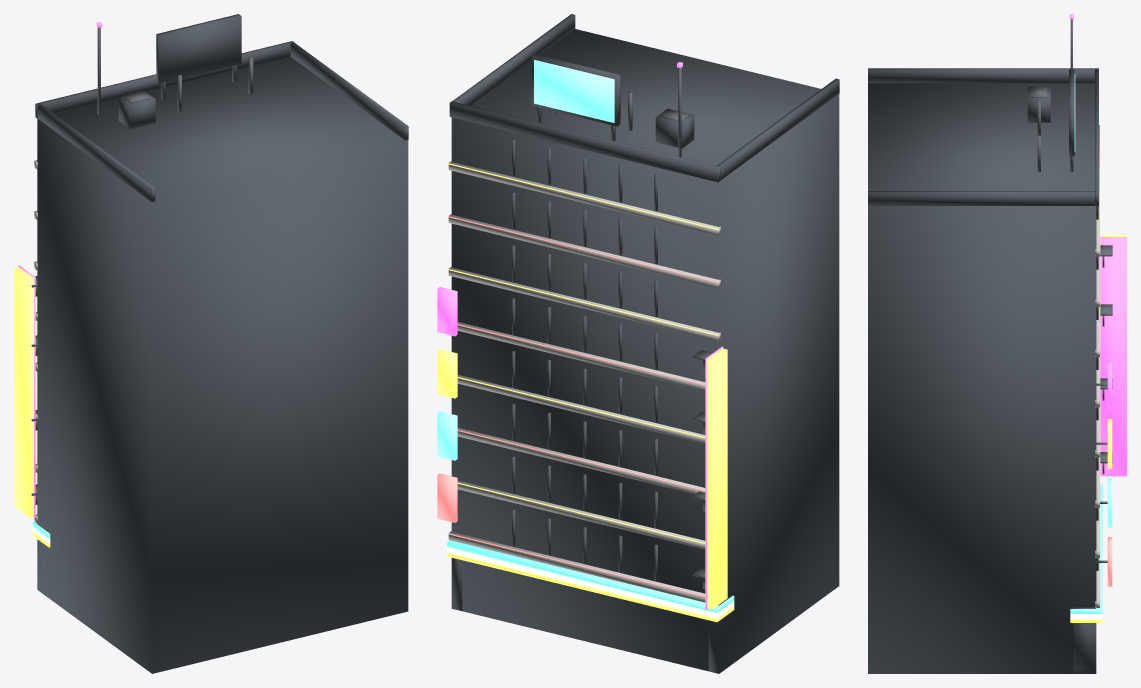
File: tokyo_neon_tower_c.glb
3 renders of one model, left to right at view 1: azimuth 30°, elevation 25°; view 2: azimuth 150°, elevation 25°; view 3: azimuth 270°, elevation 25°, orthographic. The views are drawn at different scales.
Visible parts, largest first — view 1: tokyo_neon_tower_c; view 2: tokyo_neon_tower_c; view 3: tokyo_neon_tower_c.
Boxes of the visible parts, x1,y1,x2,y2 form: tokyo_neon_tower_c: (14, 14, 408, 673); tokyo_neon_tower_c: (437, 14, 839, 673); tokyo_neon_tower_c: (868, 14, 1126, 673).
Size of the model in its own units: 18.98 by 37.88 by 15.88.
